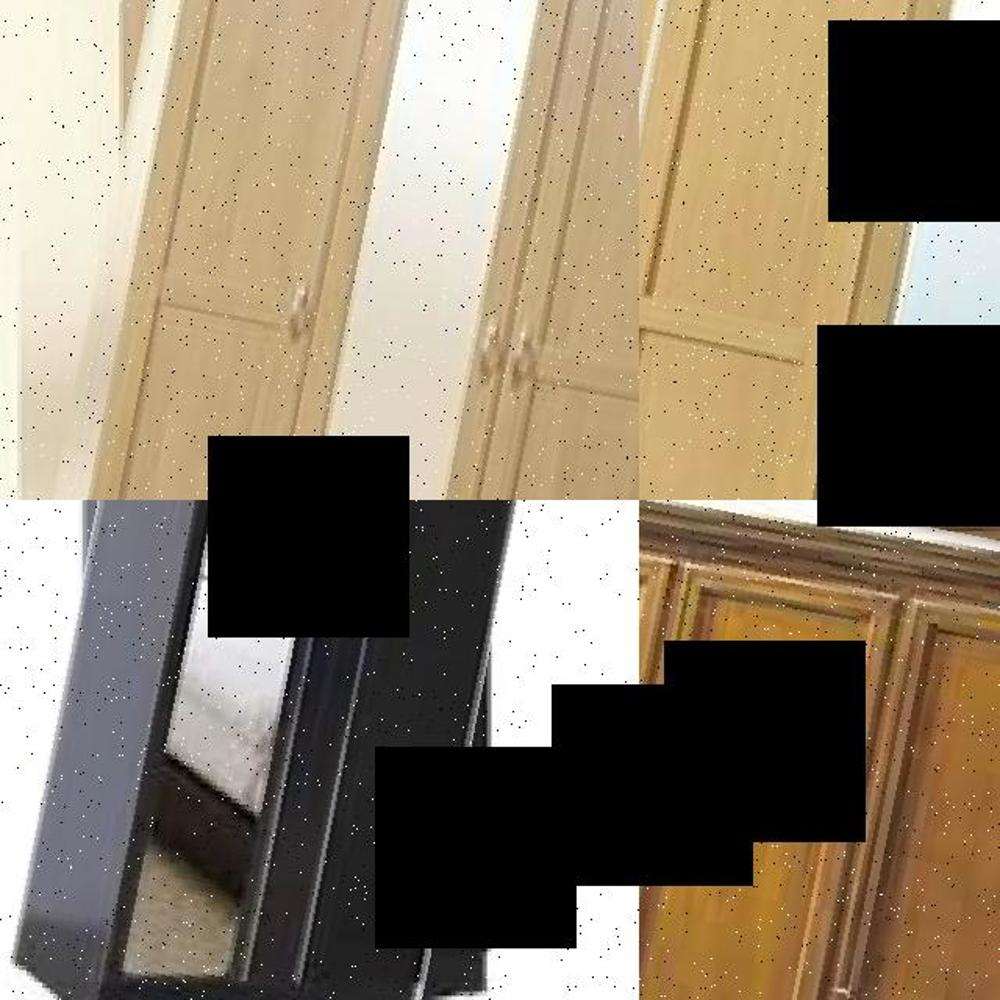cabinet: (48, 0, 639, 500), (38, 500, 534, 1000), (639, 0, 1000, 500), (639, 500, 1000, 1000)
